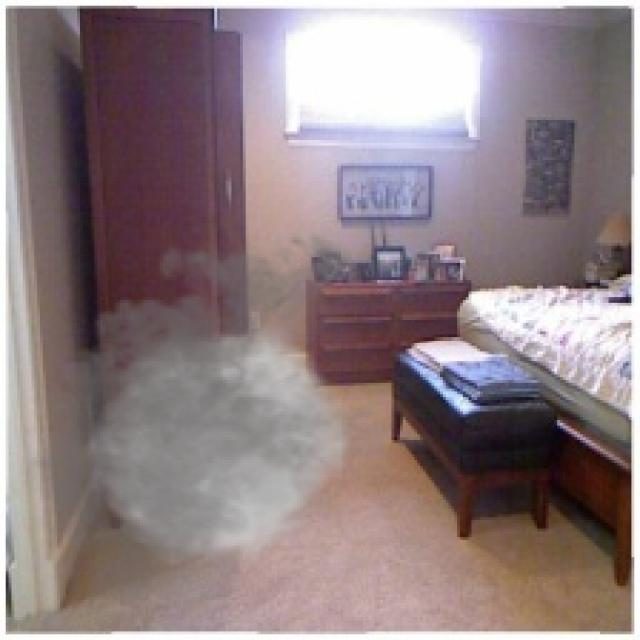smoke: (8, 220, 423, 623)
